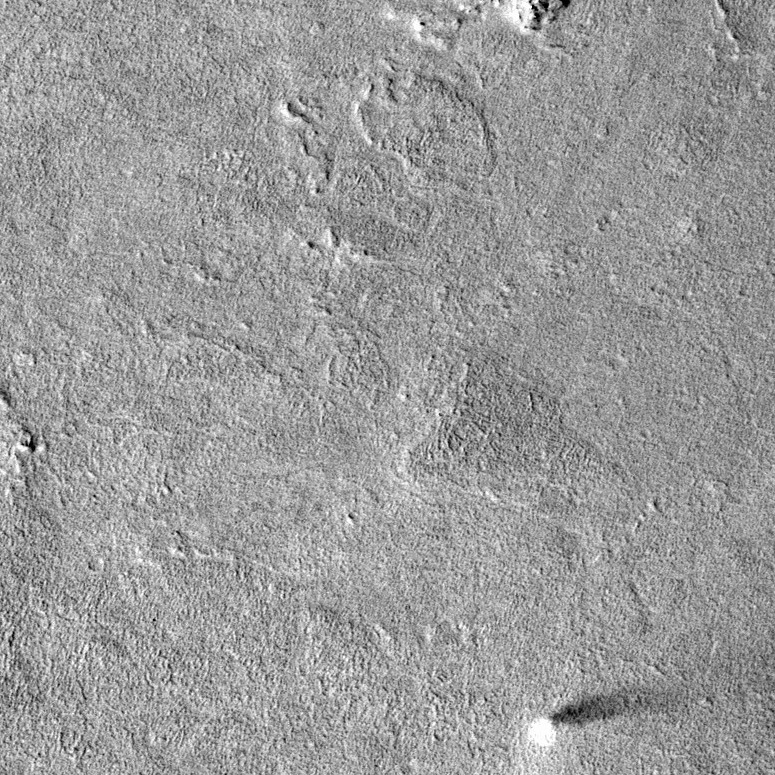dust_devil: (525, 685, 694, 749)
